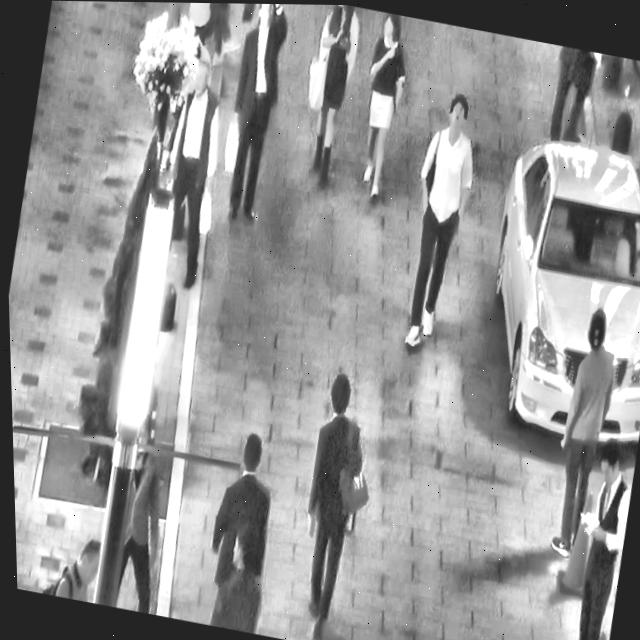light_vehicle: (454, 108, 640, 458)
